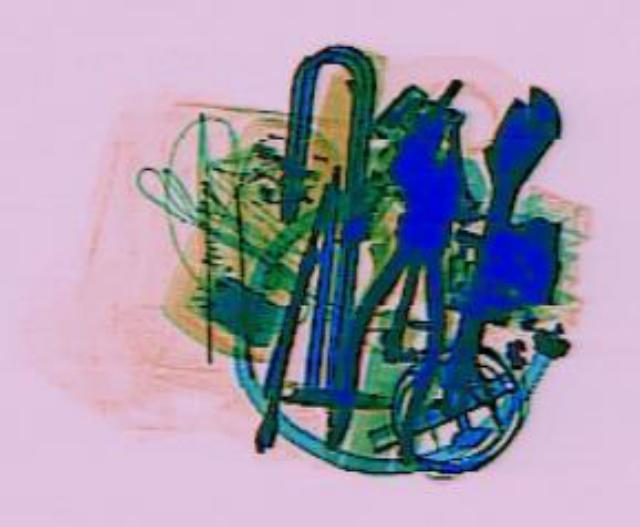Pliers: (310, 108, 492, 465)
Wrench: (414, 76, 568, 417)
